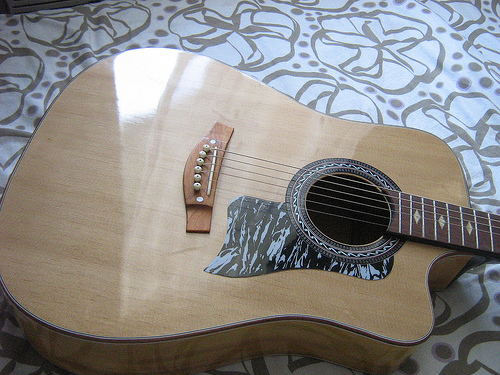guitar: (2, 47, 500, 372)
